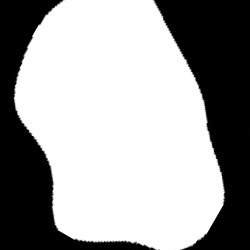spot: (14, 2, 227, 248)
